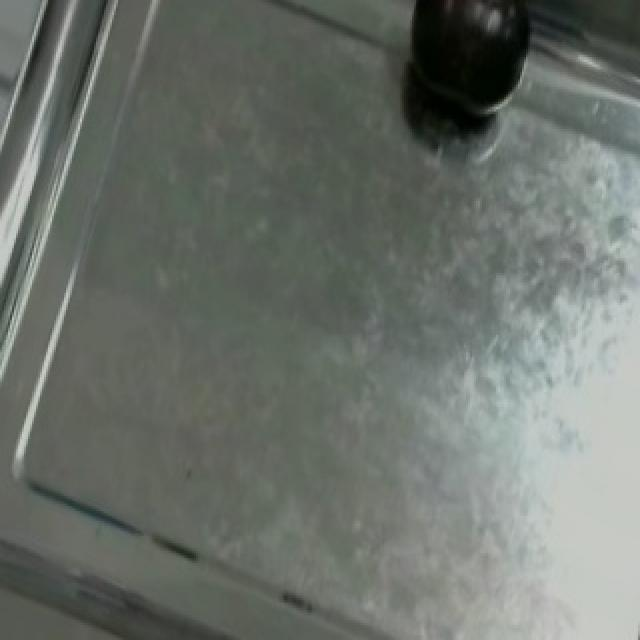Fruit: (390, 0, 556, 141)
